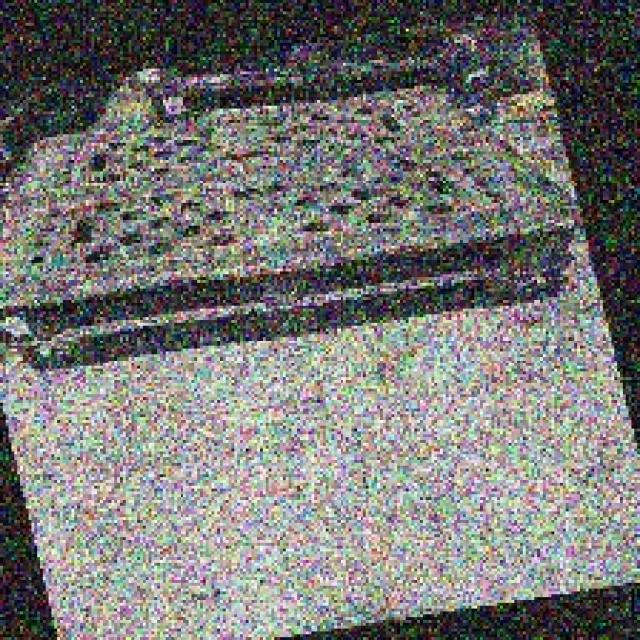igps: (0, 74, 590, 353), (0, 251, 586, 380)
